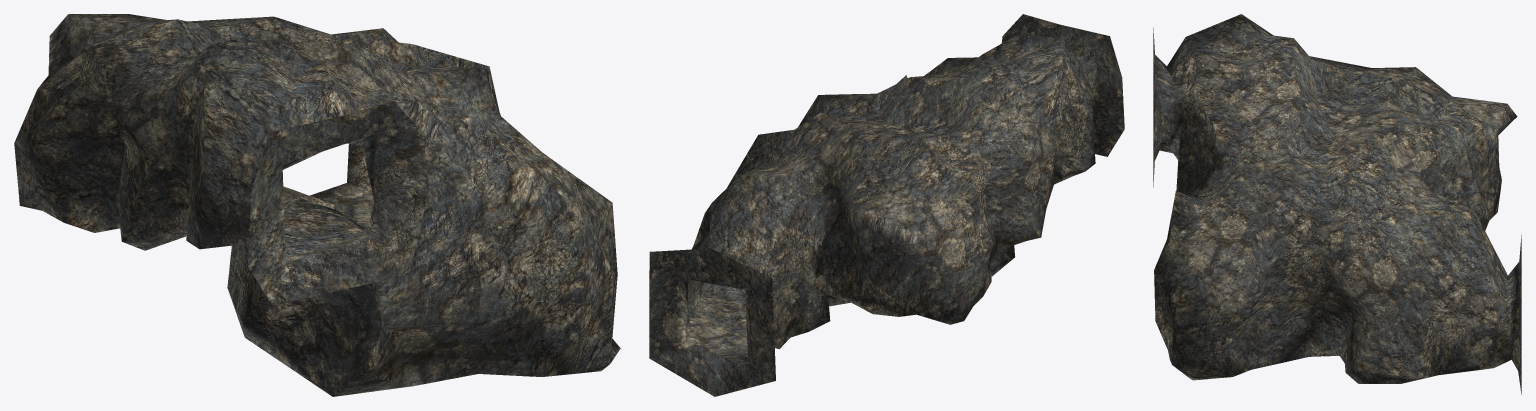
The model's file is Module12_LOD2.fbx.
3 views of the same model, side by side, from view 1: azimuth 30°, elevation 25°; view 2: azimuth 150°, elevation 25°; view 3: azimuth 270°, elevation 25° (orthographic). The views are drawn at different scales.
Visible parts, largest first — view 1: cave_el12_1900_Group65318; view 2: cave_el12_1900_Group65318; view 3: cave_el12_1900_Group65318.
Part boxes in pixels (box(x1,y1,x2,y2)): cave_el12_1900_Group65318: box(14, 14, 620, 396); cave_el12_1900_Group65318: box(649, 14, 1124, 396); cave_el12_1900_Group65318: box(1153, 14, 1521, 394).
Size of the model in its own units: 19.14 by 16.84 by 20.33.
